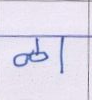aa_matra: (60, 38, 64, 73)
